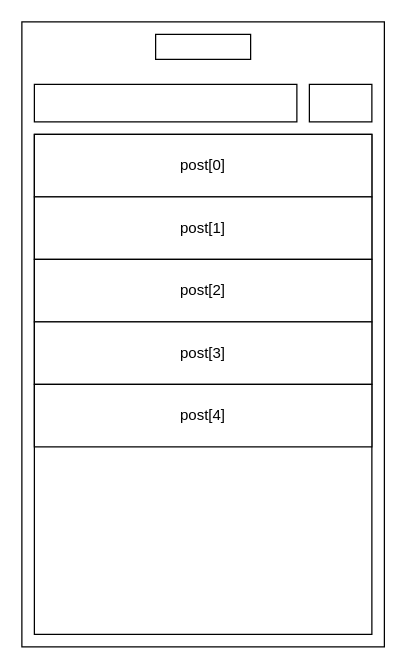
Image size: 406x669. Some labels were removed from this diagram. Here are the shapes that lost their labels. From the top down, the centre of each, then its label:
At (202,46): "Tie贴".
At (165,102): "input key word......".
At (340,102): "search".
